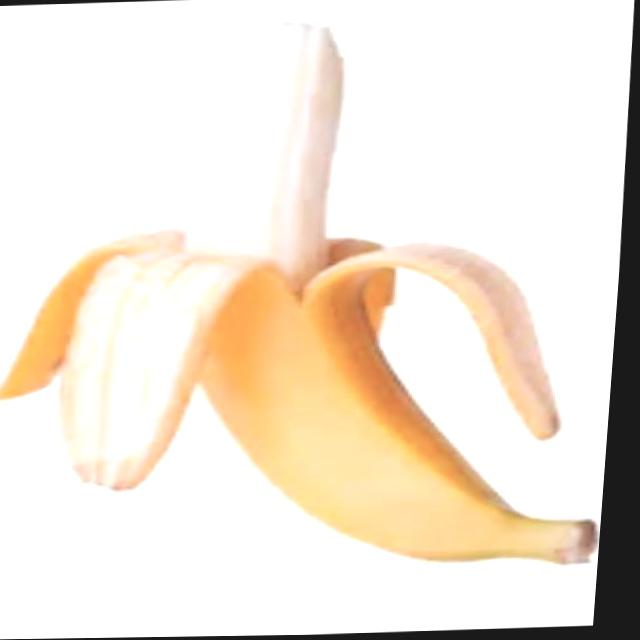Banana: (0, 9, 639, 584)
